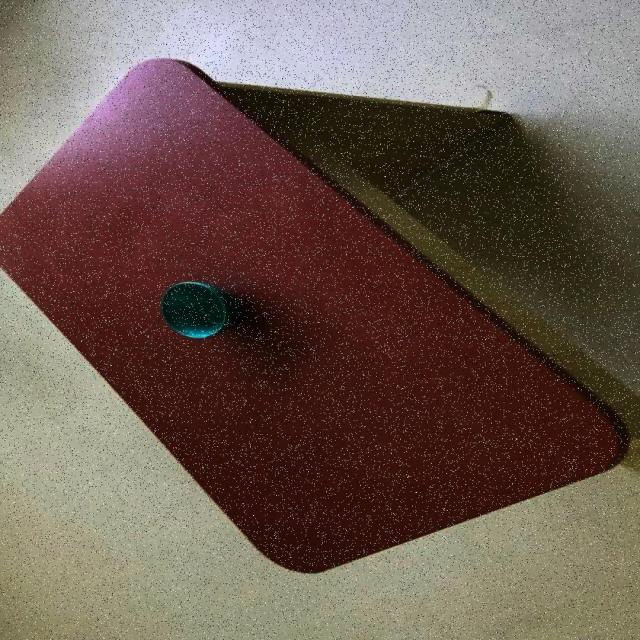Bowl: (2, 57, 633, 574), (161, 280, 243, 338)
